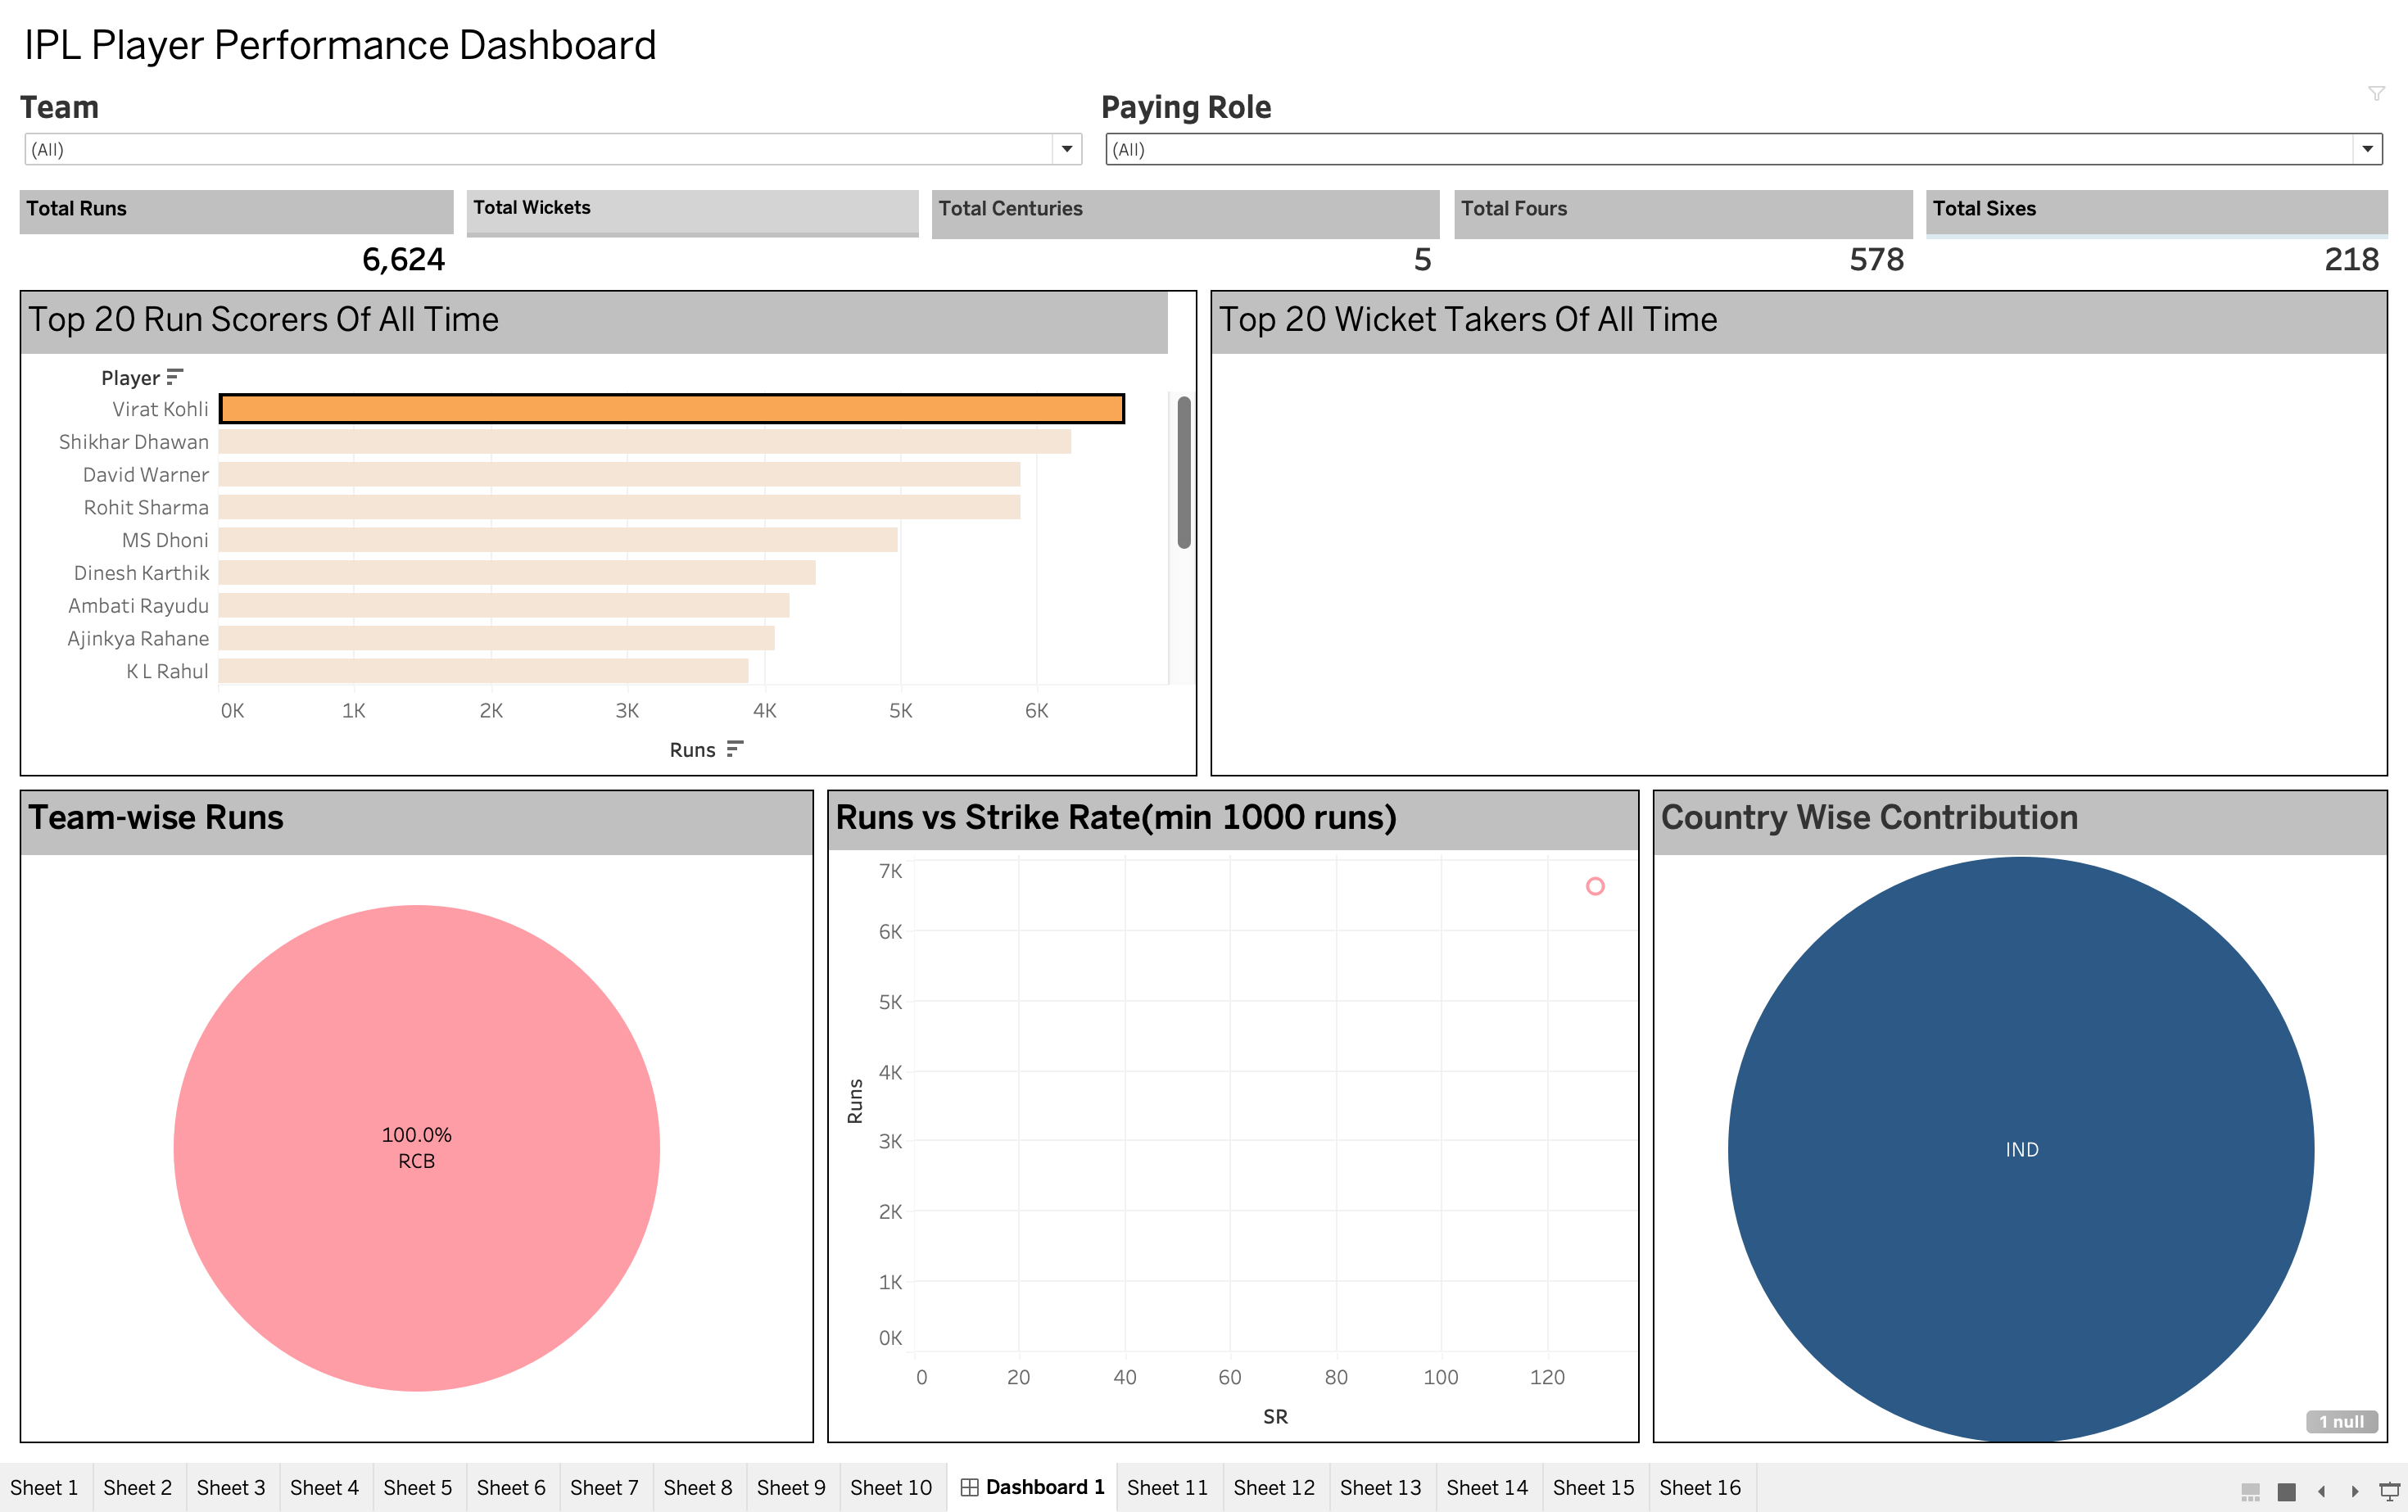

Layout of this report page (visuals, bound fields, positions):
{"tool":"tableau","page":{"name":"Dashboard 1","canvas":[1000,1000],"units":"permille","ordinal":0},"visuals":[{"type":"title","box":[6.4,9.6,987.3,46.9]},{"type":"filter","title":"Sheet 1","param":"[federated.1q6ew481t9qmb3146xeto01ve6di].[none:TEAM:nk]","box":[6.4,56.6,447.9,72.8]},{"type":"filter","title":"Sheet 1","param":"[federated.1q6ew481t9qmb3146xeto01ve6di].[none:Paying_Role:nk]","box":[454.3,56.6,539.4,72.8]},{"type":"worksheet","title":"Sheet 1","mark":"Automatic","box":[6.4,129.3,185.2,67.8]},{"type":"worksheet","title":"Sheet 2","mark":"Automatic","box":[191.5,129.3,193.3,67.8]},{"type":"worksheet","title":"Sheet 12","mark":"Automatic","box":[384.9,129.3,216,67.8]},{"type":"worksheet","title":"Sheet 13","mark":"Automatic","box":[600.9,129.3,195.8,67.8]},{"type":"worksheet","title":"Sheet 3","mark":"Automatic","box":[796.7,129.3,196.9,67.8]},{"type":"worksheet","title":"Sheet 6","mark":"Automatic","rows":["Player"],"cols":["Runs"],"box":[6.4,197.1,493.6,340.2]},{"type":"worksheet","title":"Sheet 7","mark":"Automatic","rows":["Player"],"cols":["B_Wkts"],"box":[500,197.1,493.7,340.2]},{"type":"worksheet","title":"Sheet 11","mark":"Pie","box":[6.4,537.2,334.5,453.1]},{"type":"worksheet","title":"Sheet 8","mark":"Automatic","rows":["Runs"],"cols":["SR"],"box":[340.8,537.2,342.3,453.1]},{"type":"worksheet","title":"Sheet 14","mark":"Circle","box":[683.1,537.2,310.5,453.1]}]}

Visuals, with their boxes on the dashboard's canvas, which has no fixed pixel size, in thousandths of its width and height (x1, y1, x2, y2). These are canvas units, not pixel positions in the 2408x1512 screenshot, which may show the page scaled, cropped or inside an application window:
title: 6,10,994,56
"Sheet 1" filter: 6,57,454,129
"Sheet 1" filter: 454,57,994,129
"Sheet 1" worksheet: 6,129,192,197
"Sheet 2" worksheet: 192,129,385,197
"Sheet 12" worksheet: 385,129,601,197
"Sheet 13" worksheet: 601,129,797,197
"Sheet 3" worksheet: 797,129,994,197
"Sheet 6" worksheet: 6,197,500,537
"Sheet 7" worksheet: 500,197,994,537
"Sheet 11" worksheet (Pie marks): 6,537,341,990
"Sheet 8" worksheet: 341,537,683,990
"Sheet 14" worksheet (Circle marks): 683,537,994,990
